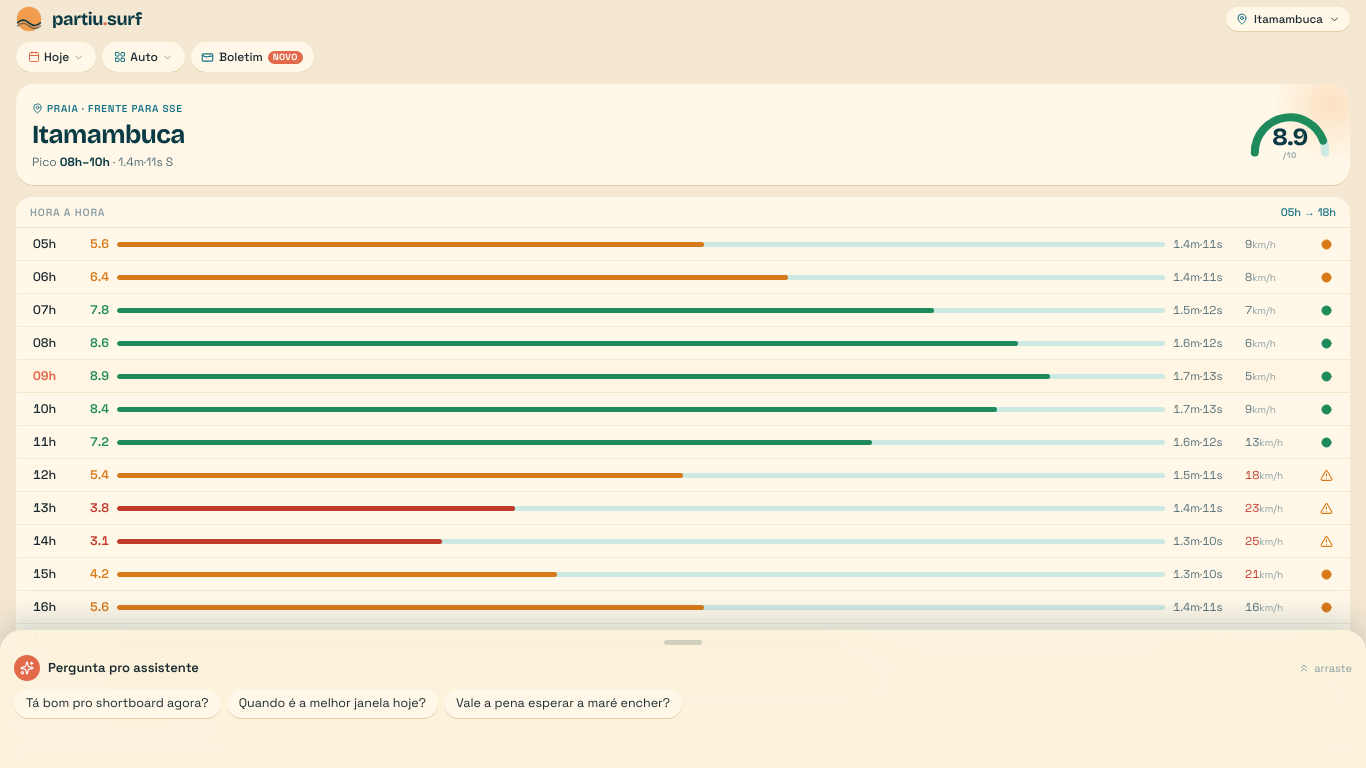
Scenario: <Mobile /> › renders the dim overlay only in full state
The width and height of the screenshot is (1366, 768).
What coordinates should you click on to do the following:
click the button with test id "sheet-grabber"
I would click on:
 (683, 642)
Its box is left=664, top=640, right=702, bottom=645.
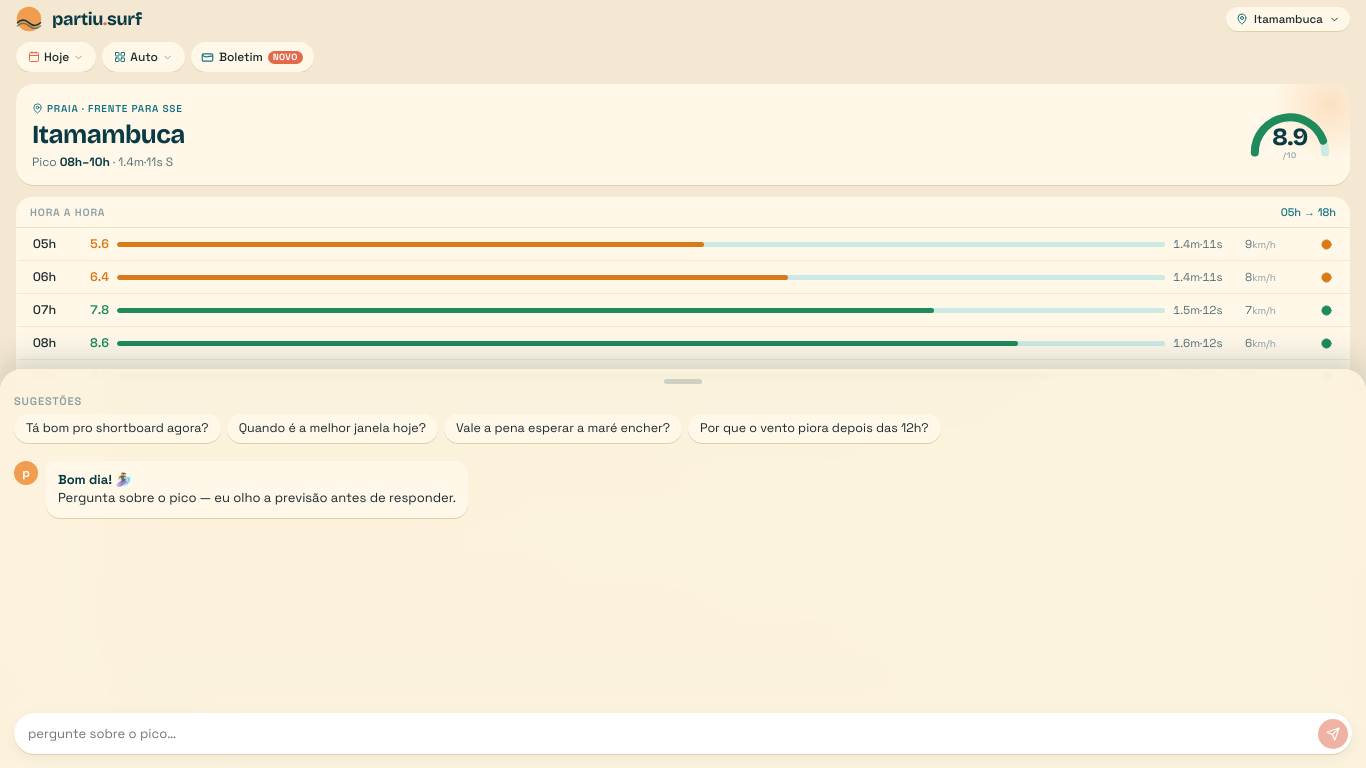
What coordinates should you click on to do the following:
click the button with test id "sheet-grabber"
I would click on:
 (683, 381)
Its box is left=664, top=379, right=702, bottom=384.
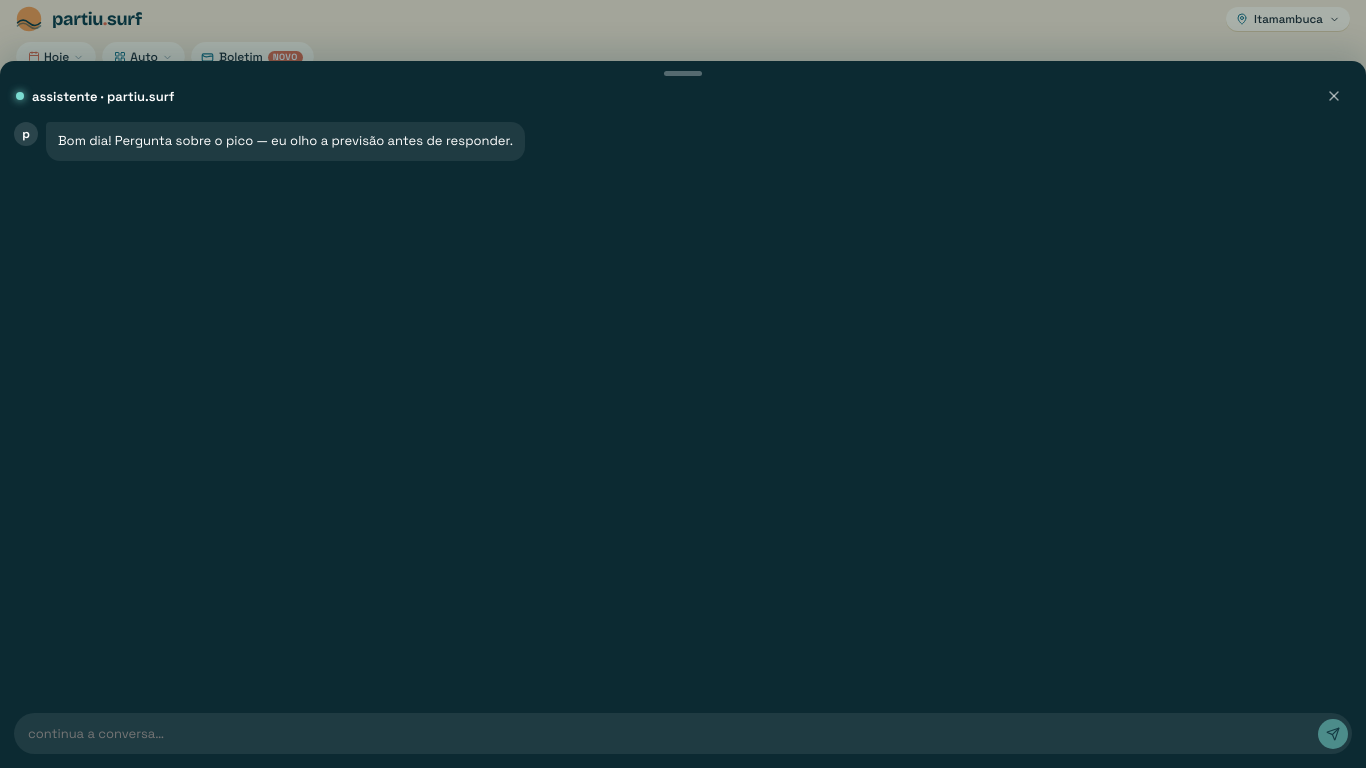
Expected: the element with test id "mobile-dim" is shown
What coordinates should you click on to do the following:
click the button with test id "sheet-grabber"
I would click on:
 (683, 74)
Its box is left=664, top=72, right=702, bottom=76.
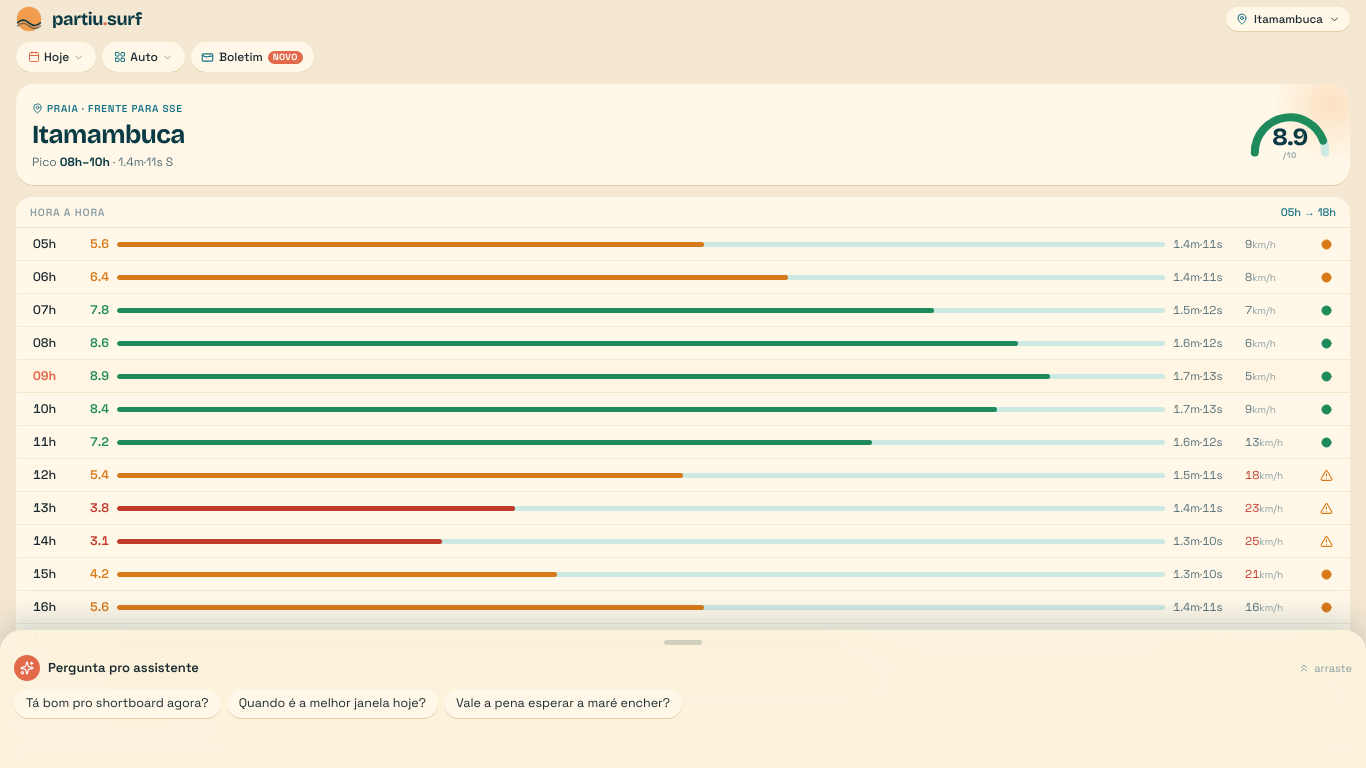
Expected: the element with test id "mobile-dim" is gone
